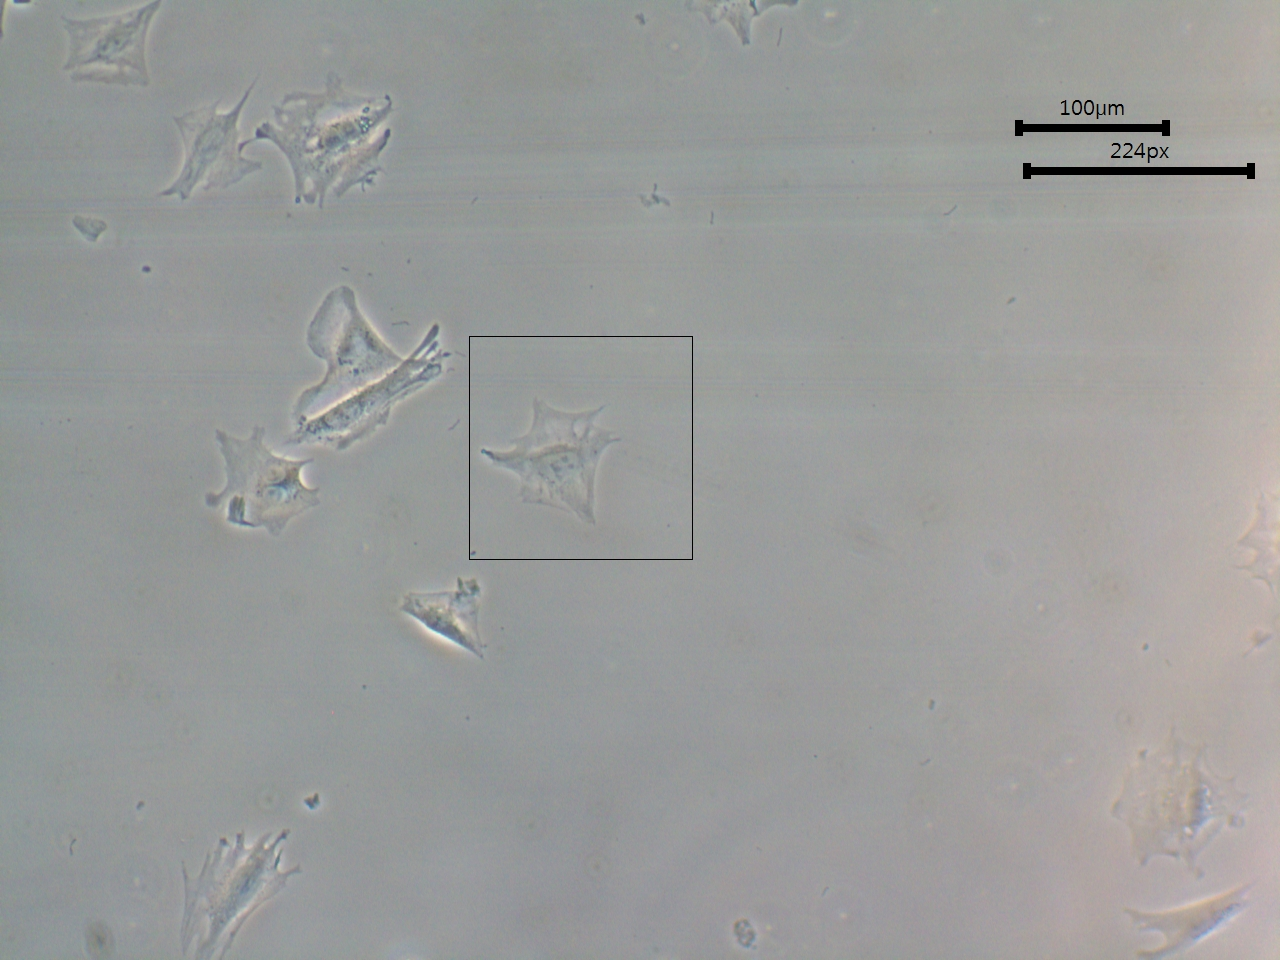dividing: (260, 71, 404, 215), (202, 419, 326, 541), (395, 576, 493, 666)
large-polygonal: (291, 323, 447, 450), (175, 823, 299, 958)
medium-polygonal: (165, 75, 269, 217)
medium-spread: (478, 394, 624, 541), (302, 278, 402, 417)
